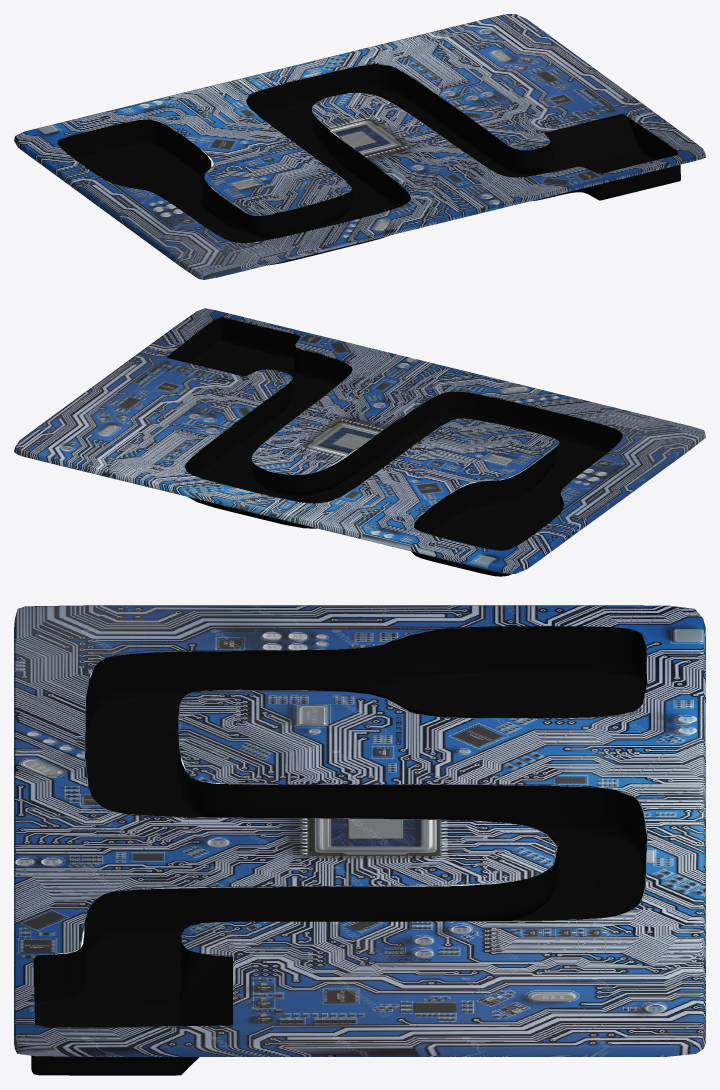
The model's file is BrutePumpFloor 1.fbx.
3 renders of one model, top to bottom at view 1: azimuth 30°, elevation 25°; view 2: azimuth 150°, elevation 25°; view 3: azimuth 270°, elevation 25°, orthographic. The views are drawn at different scales.
Visible parts, largest first — view 1: polySurface8; view 2: polySurface8; view 3: polySurface8.
Part boxes in pixels (x1,y1,x2,y2): polySurface8: [14, 14, 705, 279]; polySurface8: [14, 308, 705, 576]; polySurface8: [14, 605, 705, 1075].
Bounding box in the file's own units: 19.16 × 0.9847 × 12.62.
